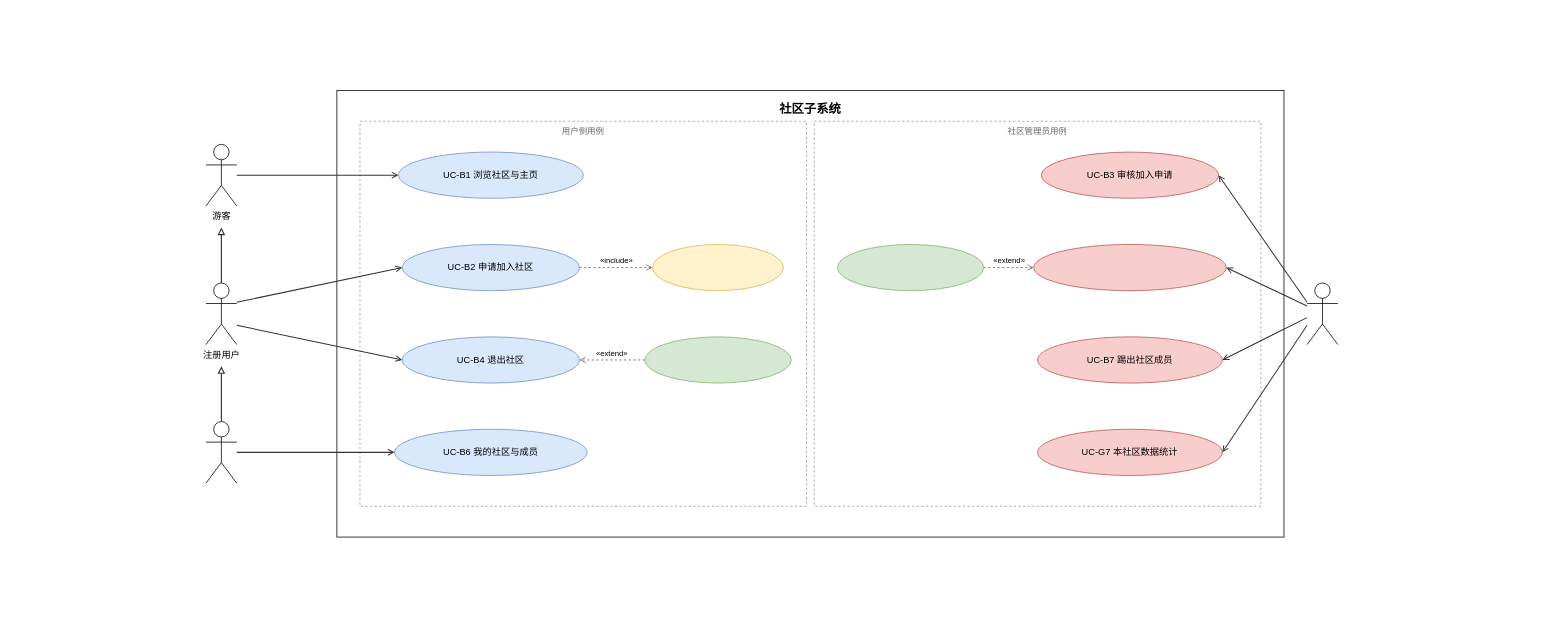
Some shapes in this 1551 by 627 pixel diagram are drawn without their labels. The box of each missing label's shape, as (x1, y1, x2, y2) in pixels:
UC-B5 发布/管理社区公告: (1033, 244, 1226, 291)
清理待处理申请: (644, 336, 791, 383)
社区管理员: (1306, 282, 1338, 345)
编辑/删除公告: (837, 244, 984, 291)
自动通过准入: (652, 244, 783, 291)
认证用户: (205, 421, 237, 483)
